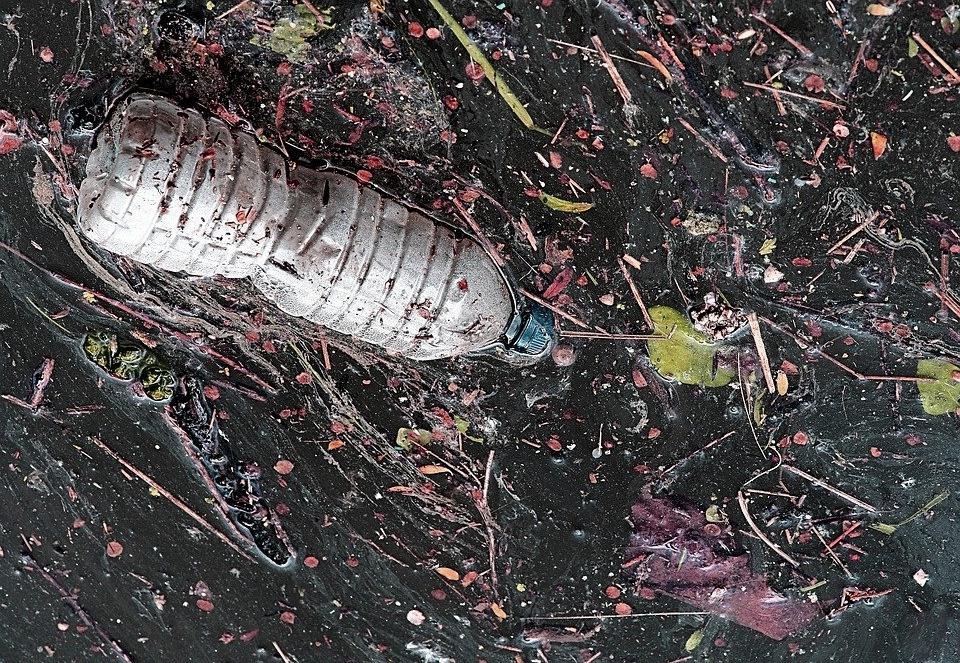Plastic: (70, 86, 559, 371)
